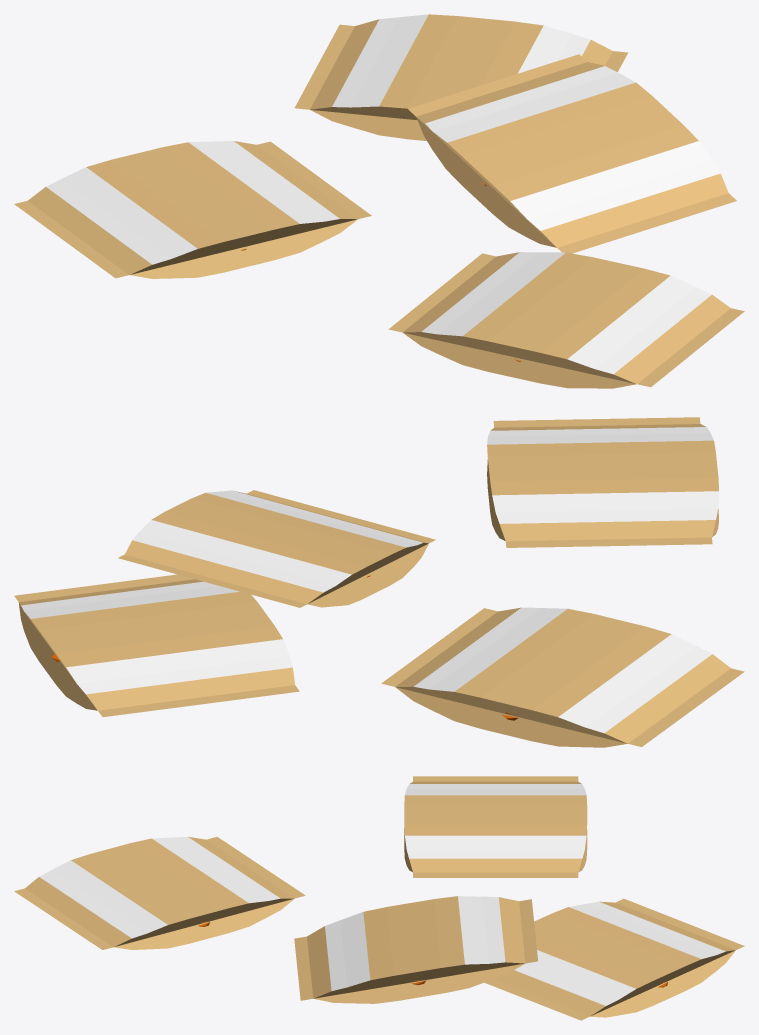
Rendered from snack.gltf.
3 renders of one model, top to bottom at view 1: azimuth 30°, elevation 25°; view 2: azimuth 150°, elevation 25°; view 3: azimuth 270°, elevation 25°, orthographic. The views are drawn at different scales.
Visible parts, largest first — view 1: snack1; view 2: snack1; view 3: snack1.
Boxes of the visible parts, x1=… form: snack1: x1=14, y1=14, x2=744, y2=388; snack1: x1=14, y1=417, x2=744, y2=747; snack1: x1=14, y1=776, x2=744, y2=1020.
Size of the model in its own units: 1.72 by 0.1478 by 2.17.
